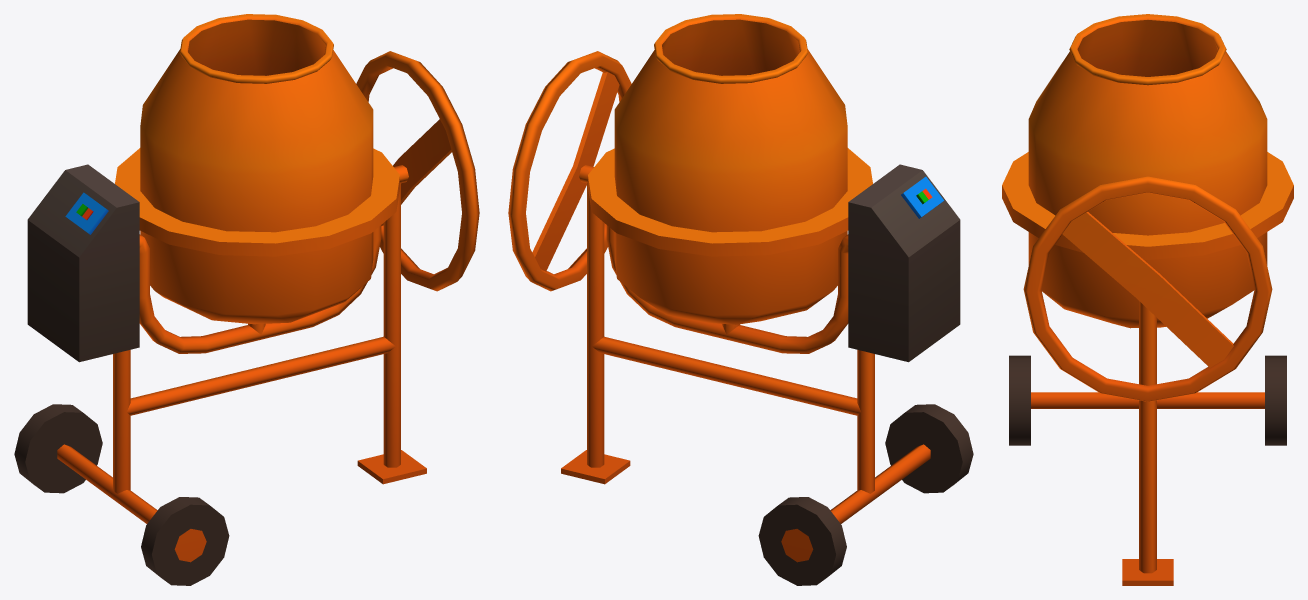
Rendered from FoodLowPolyBigPack_01.fbx.
3 renders of one model, left to right at view 1: azimuth 30°, elevation 25°; view 2: azimuth 150°, elevation 25°; view 3: azimuth 270°, elevation 25°, orthographic.
Parts seen in each view (by area): view 1: concrete_mixer; view 2: concrete_mixer; view 3: concrete_mixer.
Part boxes in pixels (<box>): concrete_mixer: <box>14,14,479,585</box>; concrete_mixer: <box>508,14,973,585</box>; concrete_mixer: <box>1002,14,1293,585</box>.
Size of the model in its own units: 129 by 154 by 87.95.
1 material, 1 textured.
